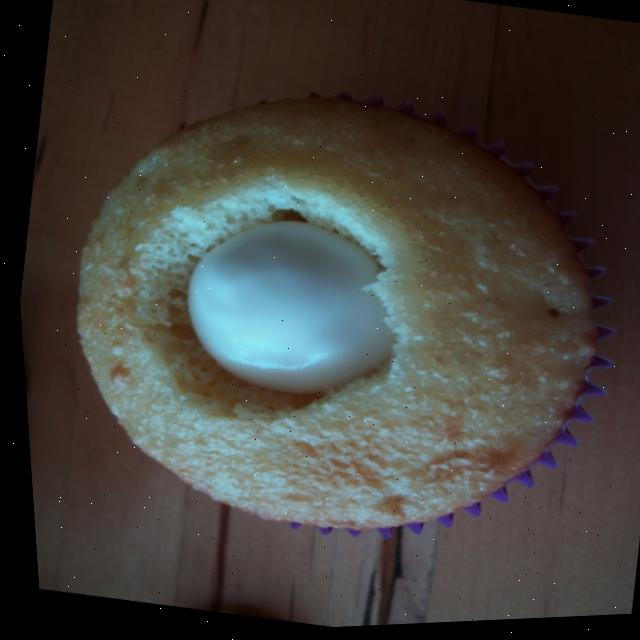蛋糕甜品: (9, 17, 640, 607)
